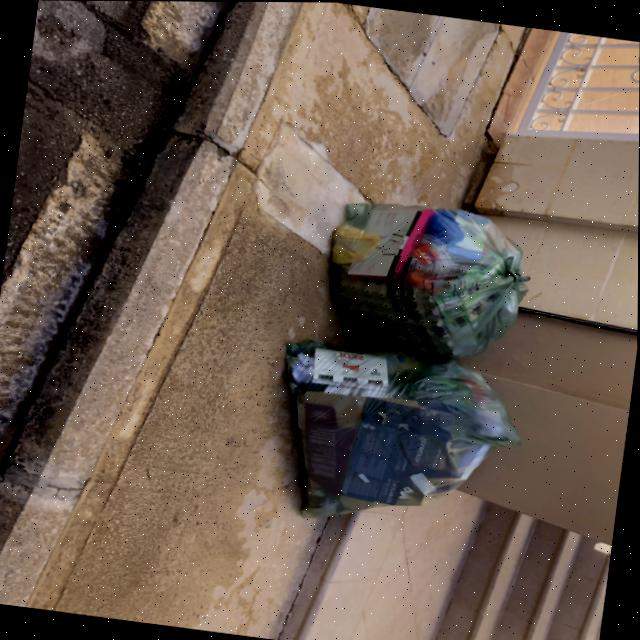Recycled Waste -Grey or Green Bag-: (254, 332, 527, 544), (310, 189, 543, 377)
